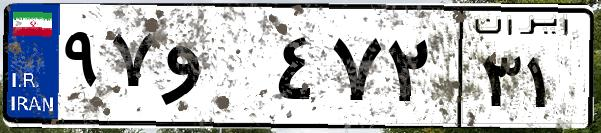1: (525, 38, 570, 115)
2: (385, 28, 445, 110)
3: (475, 38, 525, 113)
4: (270, 28, 330, 110)
7: (330, 28, 385, 110), (110, 28, 158, 98)
9: (57, 26, 110, 100)
و: (158, 20, 270, 120)
